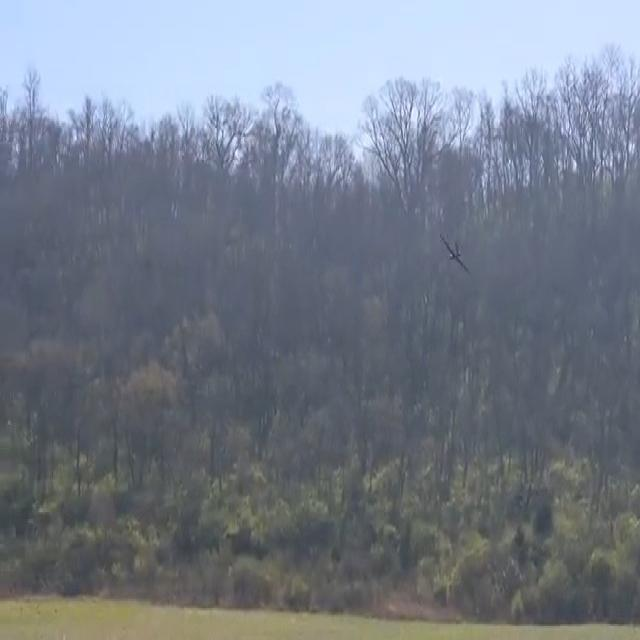iha: (441, 235, 467, 270)
